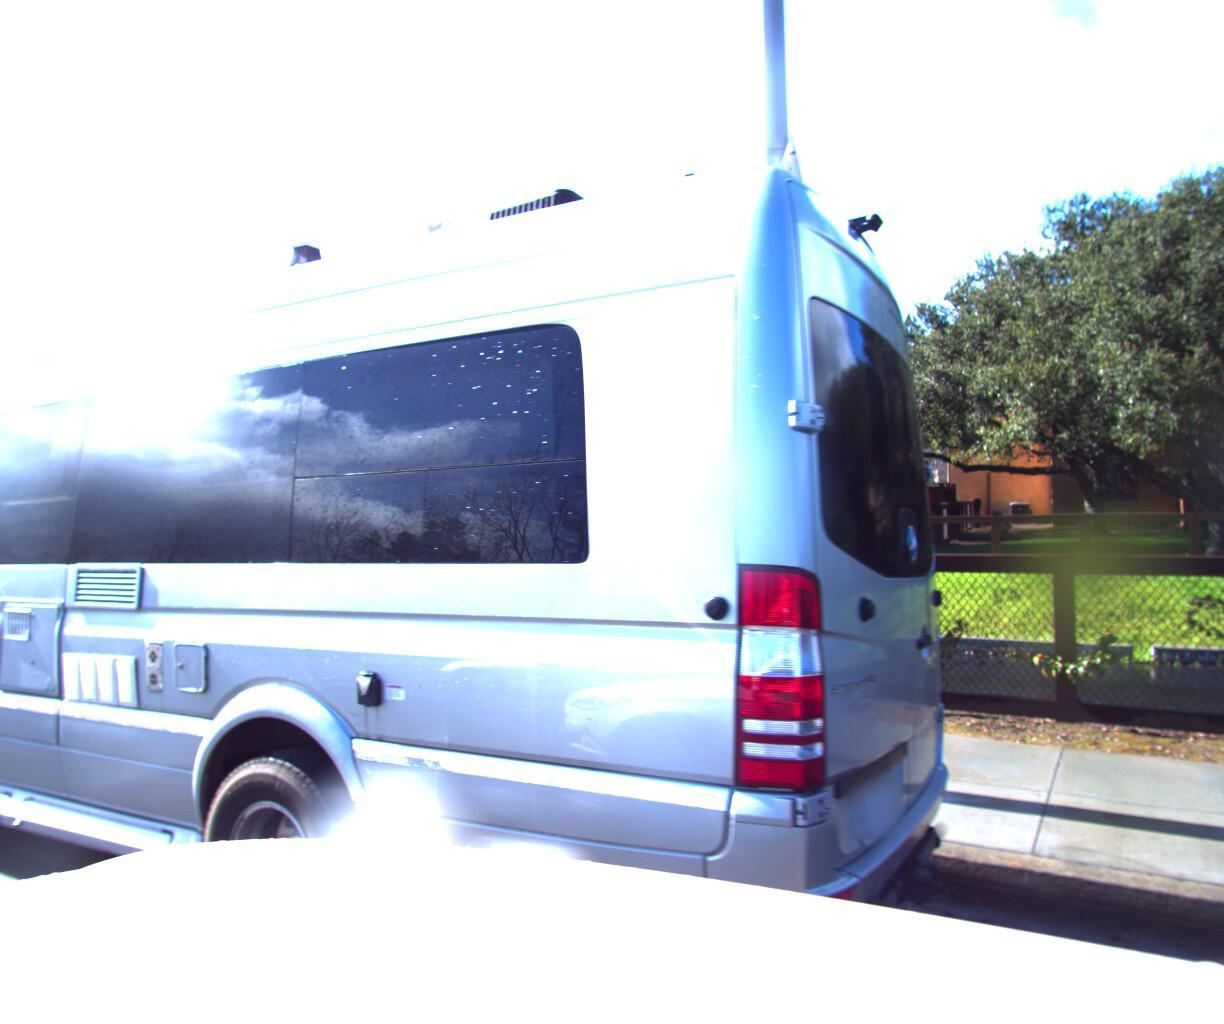car: (0, 0, 982, 1024)
